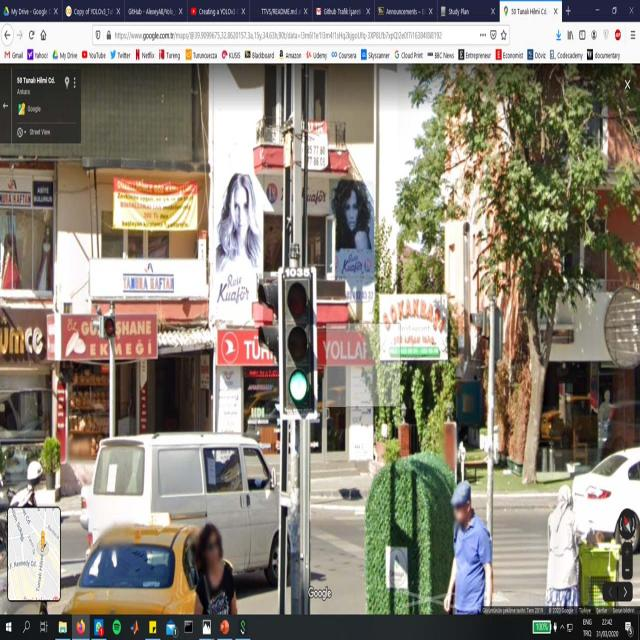yesil: (282, 273, 312, 411)
